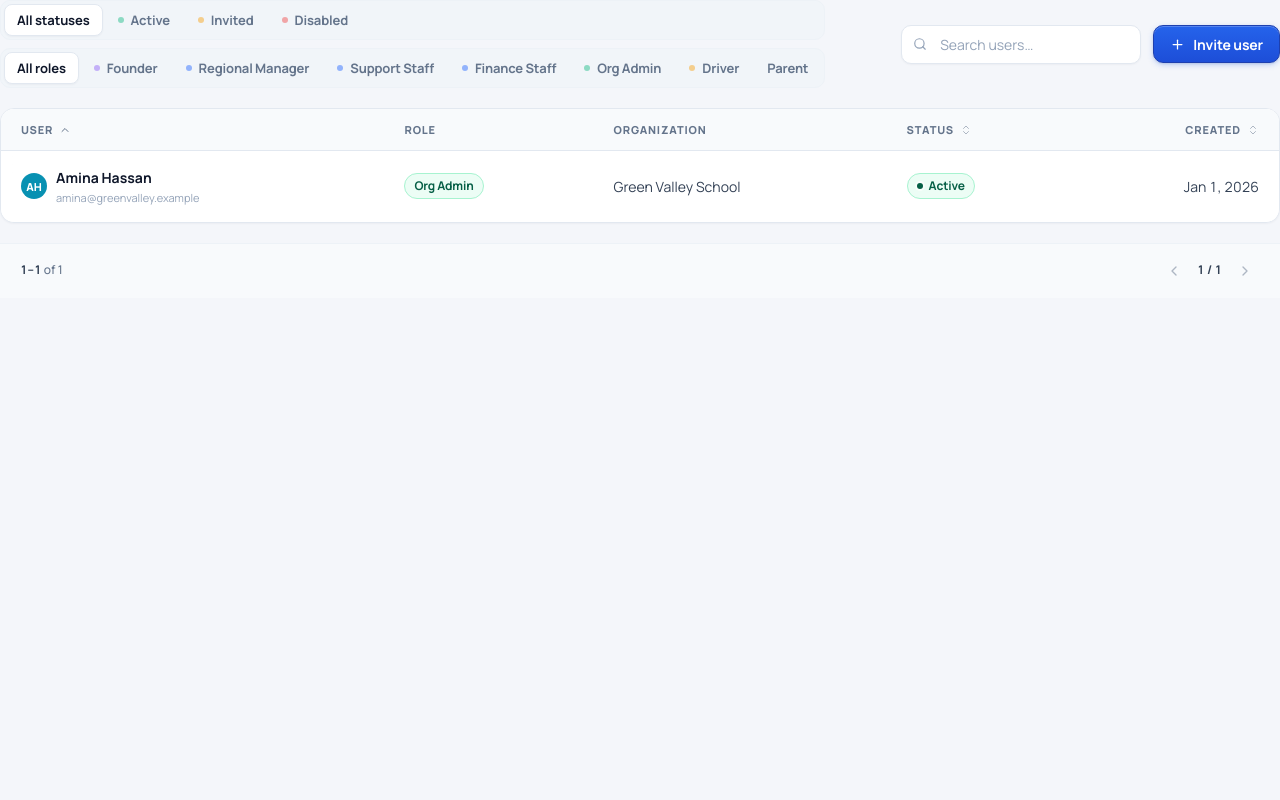
Test: UsersPage › lets a founder reset a user's password from the detail drawer
The width and height of the screenshot is (1280, 800).
Click the text "Amina Hassan".
click(104, 178)  # box [56,168,152,187]
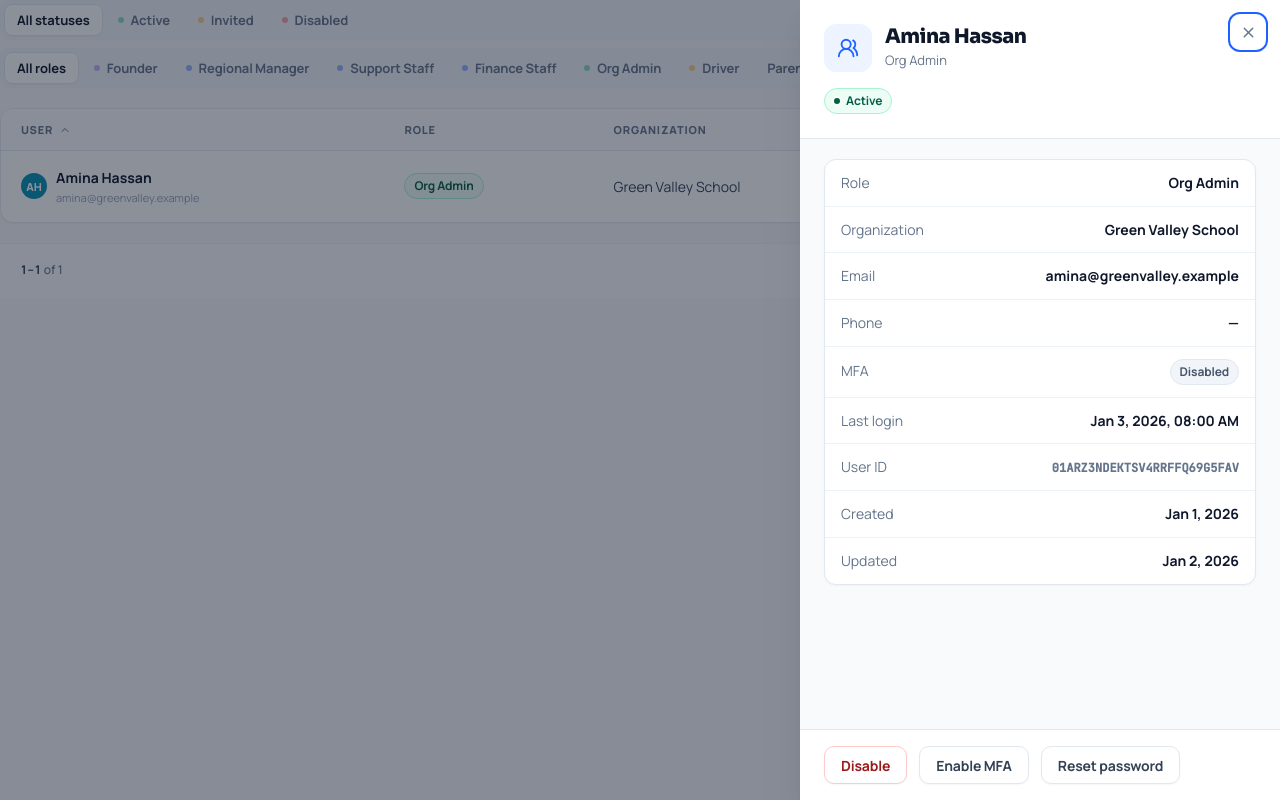
Click the button "Reset password".
click(1111, 765)  # box [1041,746,1180,784]
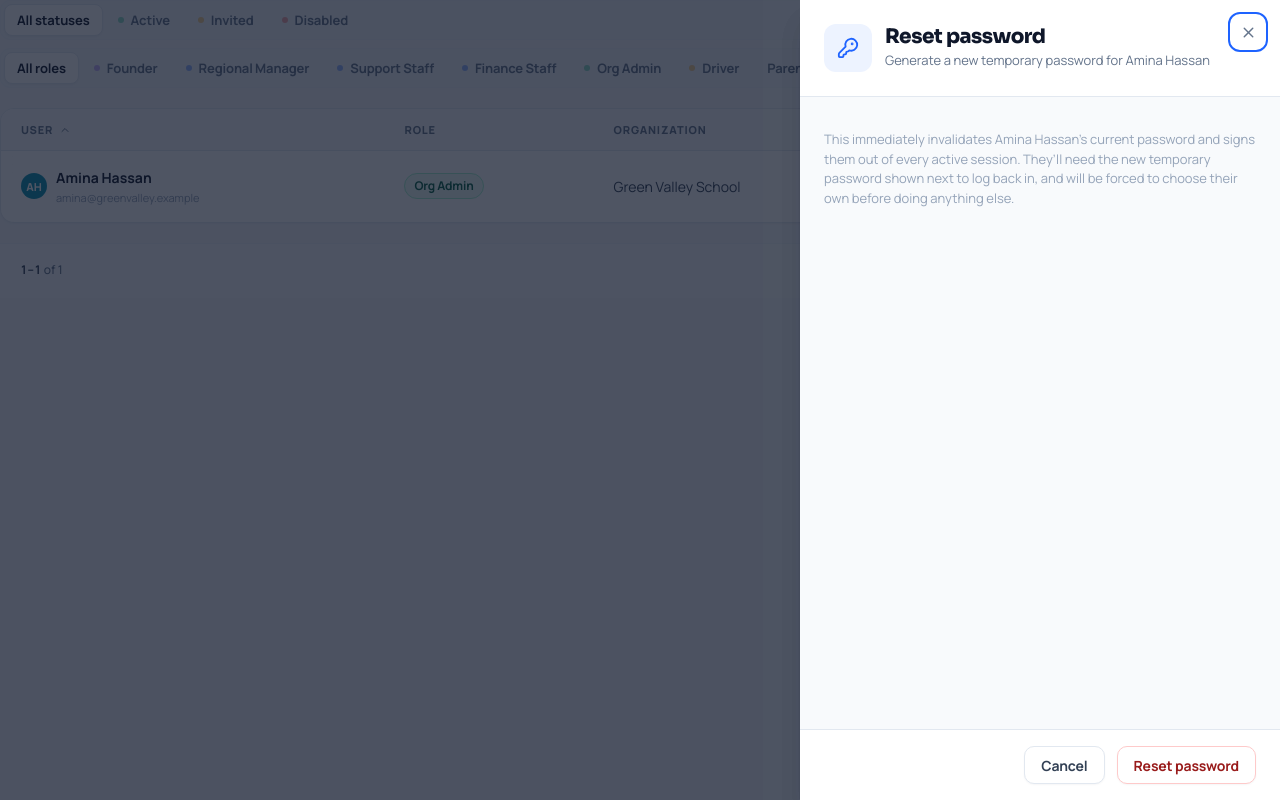
Click the button "Reset password".
click(1186, 765)  # box [1116,746,1256,784]
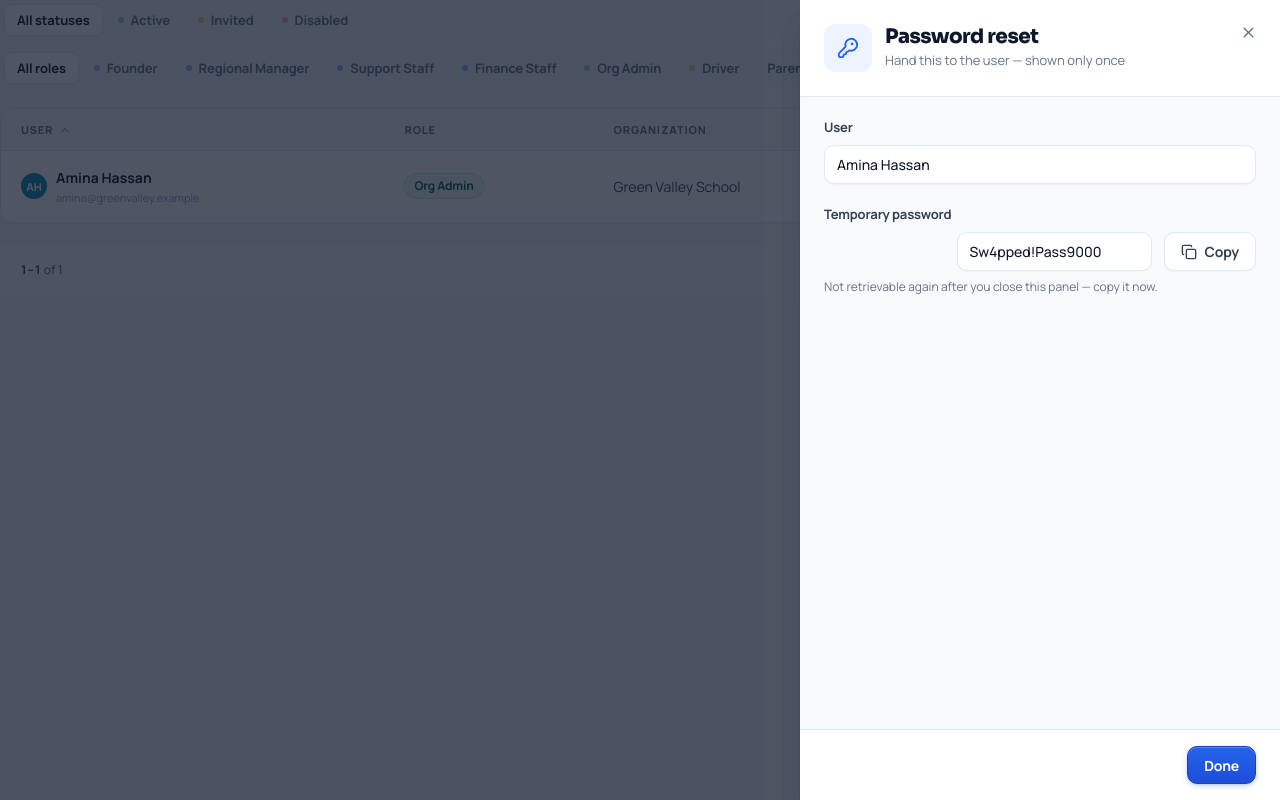
Expected: the field showing "Sw4pped!Pass9000" is shown, [956,232,1152,271]
